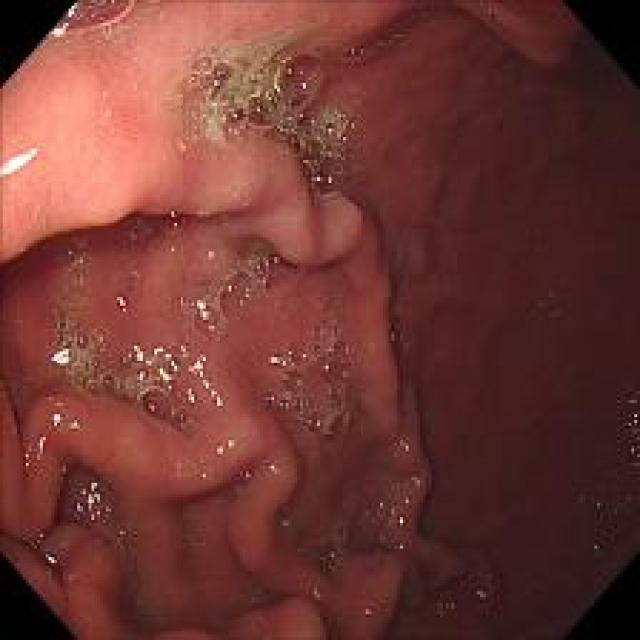bubbles: (182, 46, 361, 194), (264, 322, 360, 451), (71, 328, 116, 396), (138, 382, 200, 431), (58, 0, 138, 32), (211, 269, 252, 319), (59, 239, 91, 279), (312, 535, 345, 570), (158, 206, 192, 239), (230, 460, 262, 495), (54, 304, 78, 348), (371, 25, 409, 51), (274, 501, 299, 538), (188, 306, 220, 334), (248, 254, 275, 286)
contrast: (429, 19, 630, 635)
specularity: (126, 336, 230, 409), (366, 465, 425, 560), (71, 475, 120, 526), (28, 531, 76, 572), (41, 400, 89, 435), (15, 438, 50, 472), (1, 148, 36, 181), (398, 430, 421, 458), (474, 585, 494, 611), (49, 349, 74, 366), (214, 439, 238, 456), (270, 349, 289, 370), (45, 26, 69, 39), (196, 299, 209, 321), (398, 516, 406, 528)
